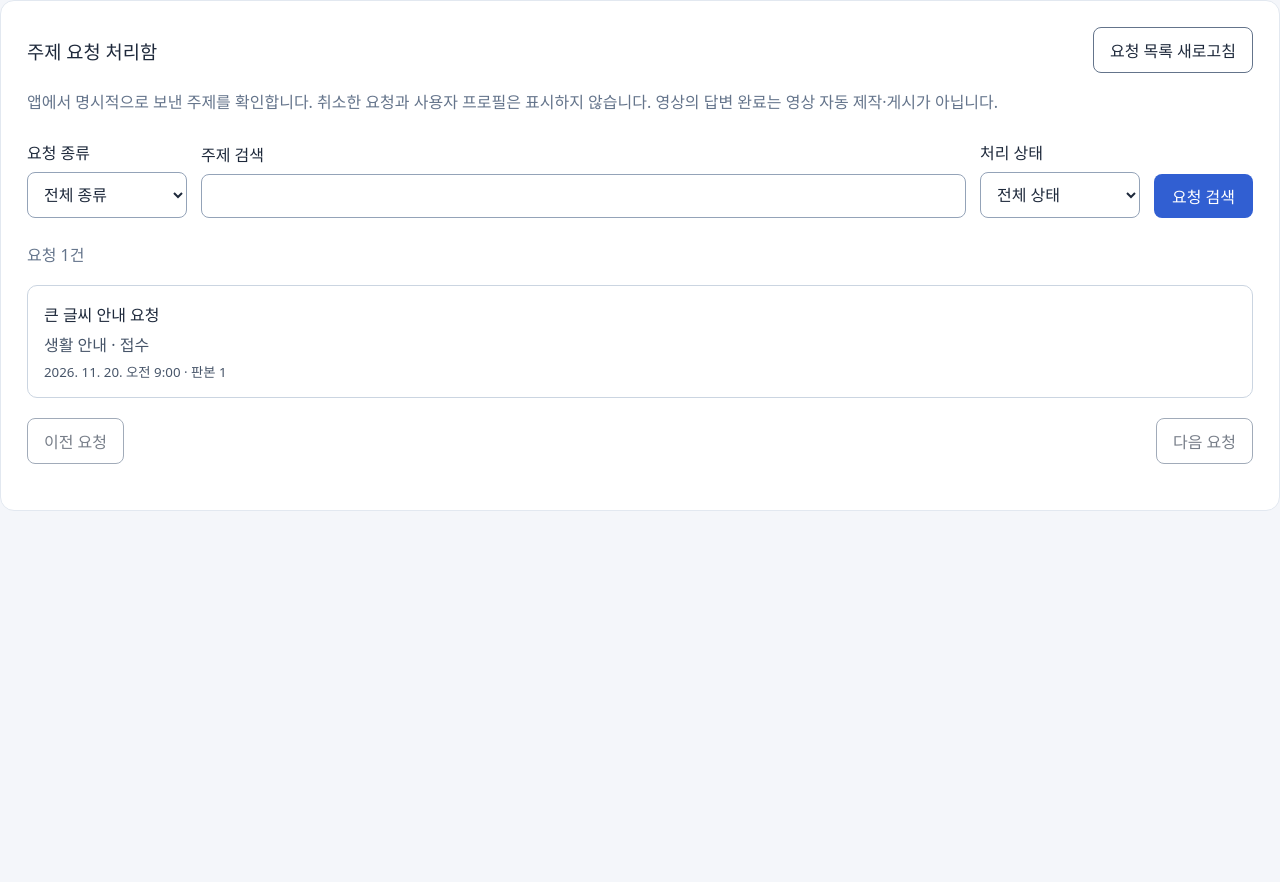
Test: 감사 조회가 취소를 확인한 뒤 늦은 상세 성공 응답이 원문을 복원하지 않는다
Click the button "큰 글씨 안내 요청".
click(102, 315)  # box [27,285,1253,398]
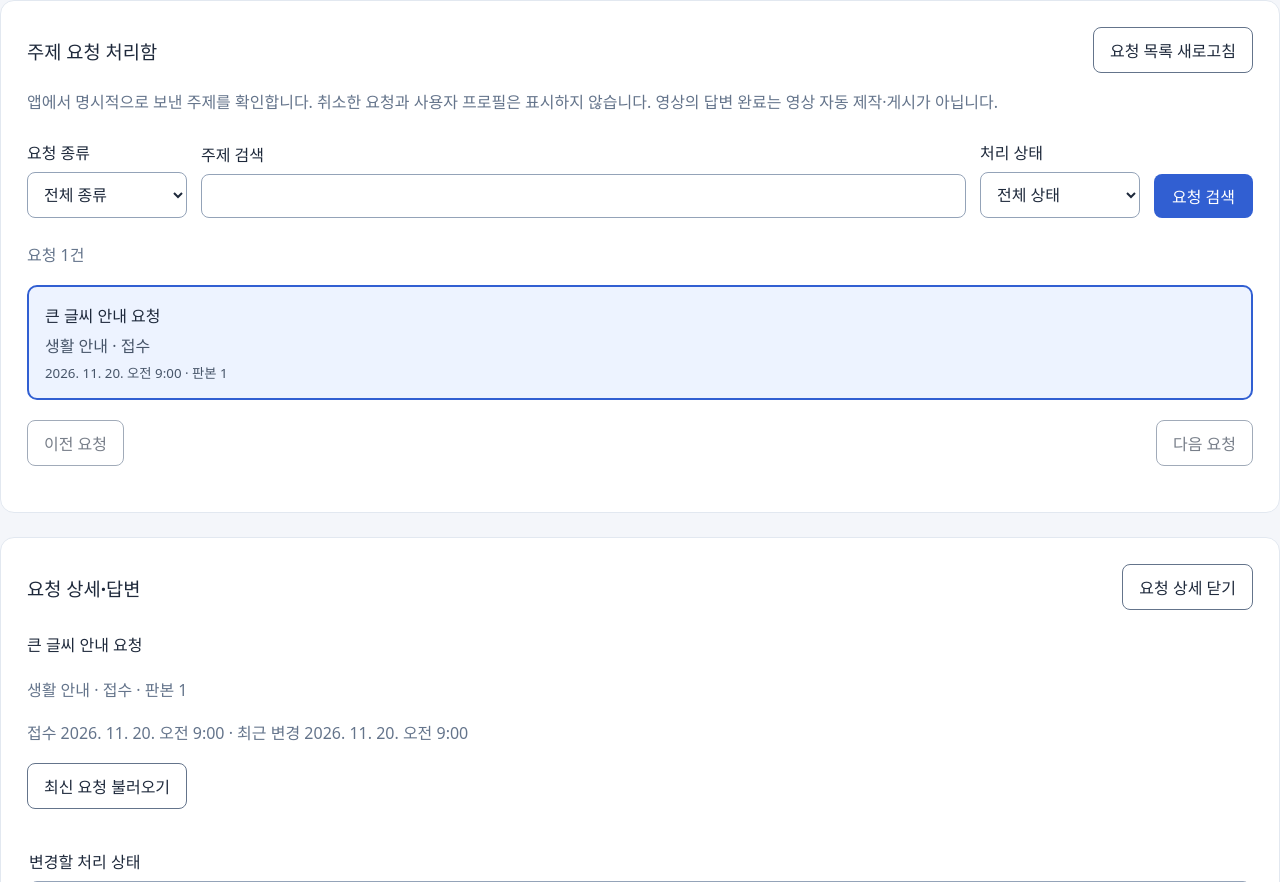
Click the button "최신 요청 불러오기".
click(107, 786)  # box [27,763,187,809]
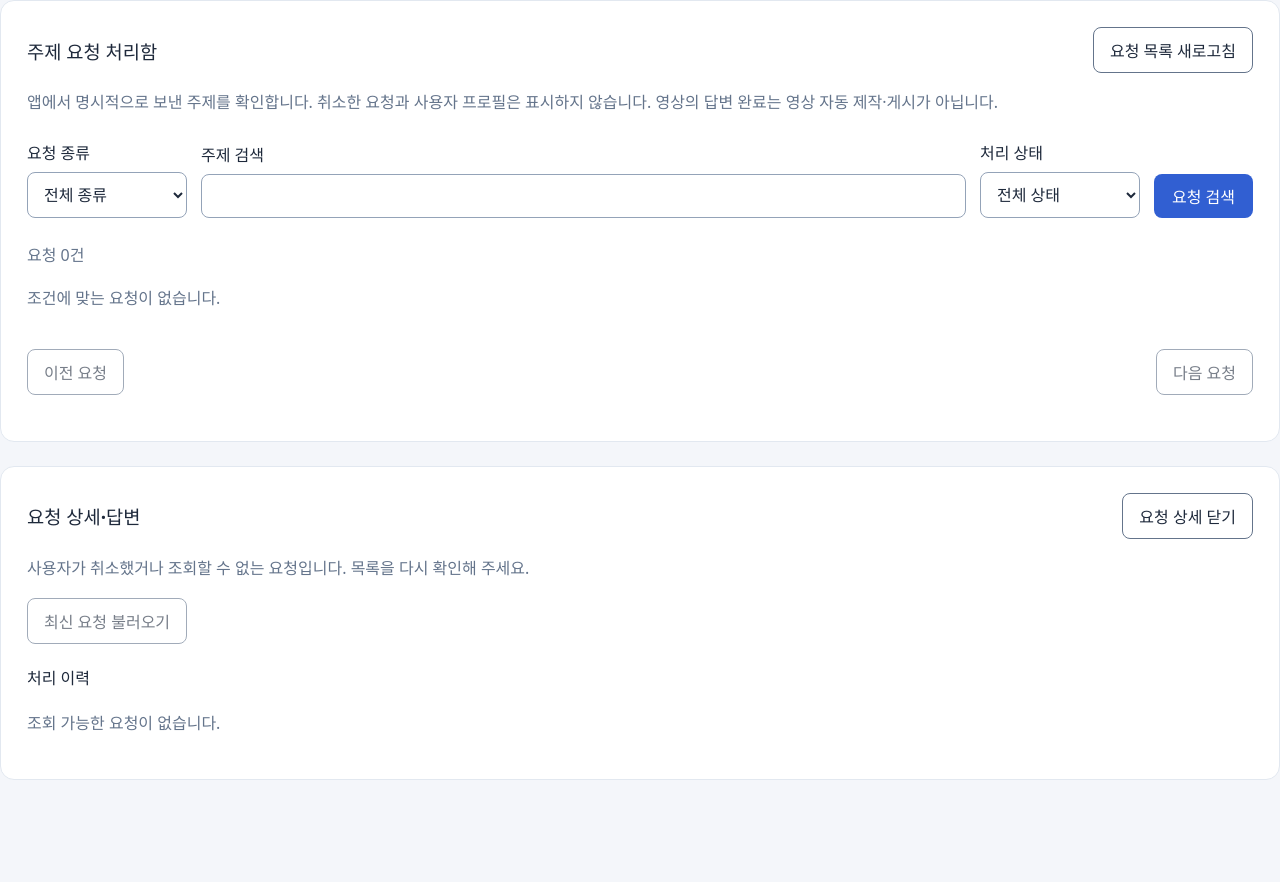
Expected: the text "사용자가 취소했거나 조회할 수 없는 요청입니다. 목록을 다시 확인해 주세요." is shown, [27,557,529,579]
Expected: the button "큰 글씨 안내 요청" is gone
Expected: the button "최신 요청 불러오기" is disabled, [27,598,187,644]
